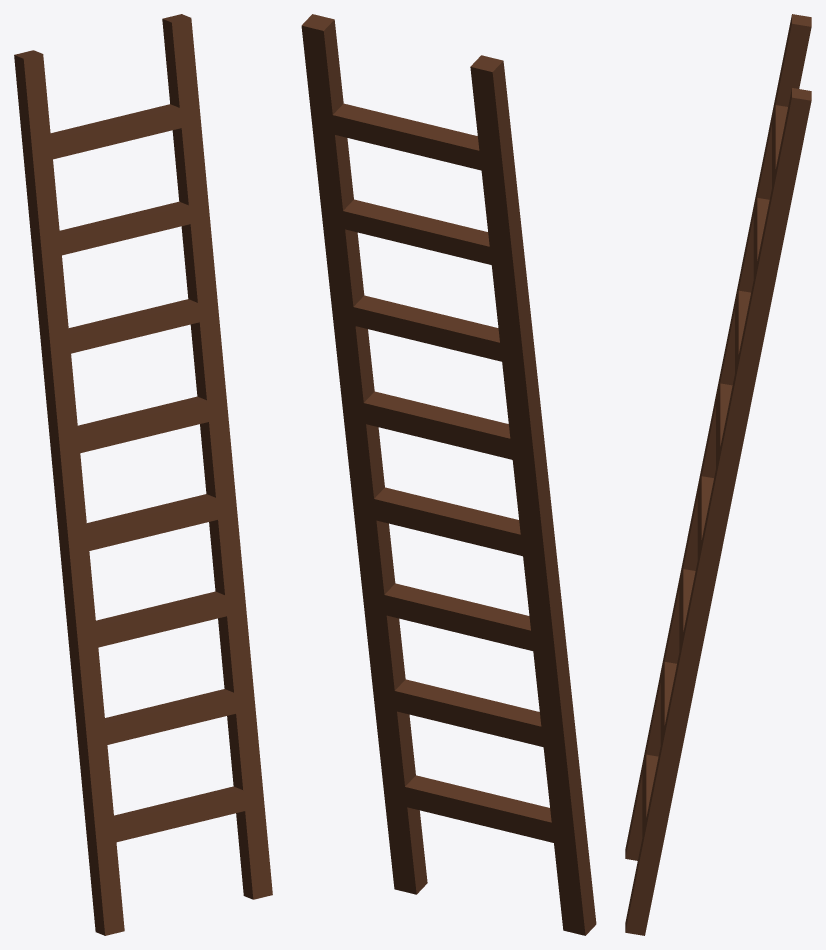
File: Scala.fbx
3 views of the same model, side by side, from view 1: azimuth 30°, elevation 25°; view 2: azimuth 150°, elevation 25°; view 3: azimuth 270°, elevation 25° (orthographic). The views are drawn at different scales.
Parts seen in each view (by area): view 1: Cube.025; view 2: Cube.025; view 3: Cube.025.
Part boxes in pixels (<box>): Cube.025: <box>14,14,272,935</box>; Cube.025: <box>301,14,596,935</box>; Cube.025: <box>625,14,811,935</box>.
Size of the model in its own units: 83.79 by 392 by 78.89.
